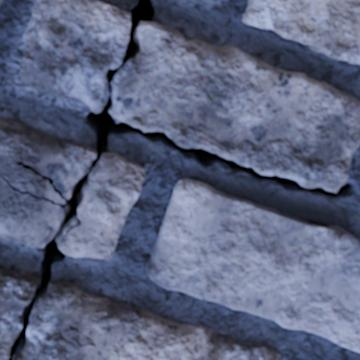brick: (146, 179, 359, 351), (243, 0, 359, 63)
broken_brick: (111, 21, 359, 190), (19, 280, 281, 359), (17, 0, 129, 111), (60, 152, 145, 260), (0, 117, 95, 202), (0, 179, 62, 248), (0, 265, 38, 359)
crack: (0, 0, 357, 359)
